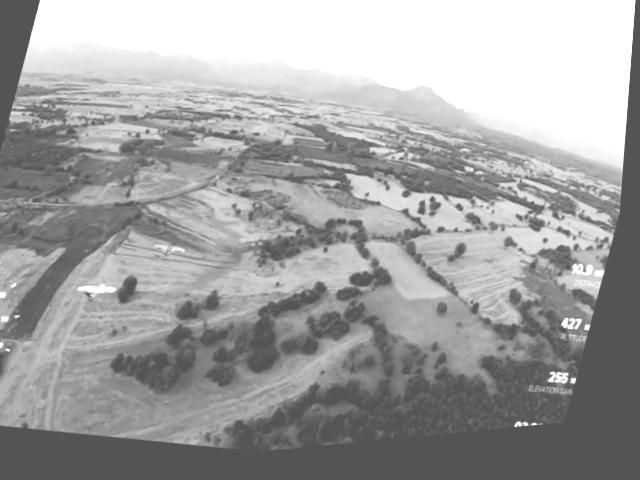hedef: (75, 272, 128, 316), (150, 235, 195, 270)
